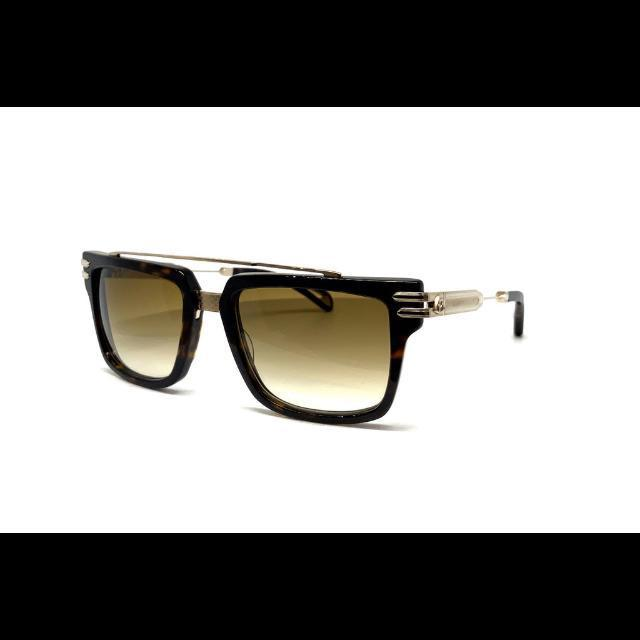sunglasses: (79, 248, 527, 427)
